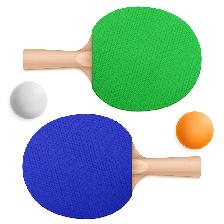WhiteBall: (10, 80, 46, 118)
YellowBall: (175, 111, 213, 149)
